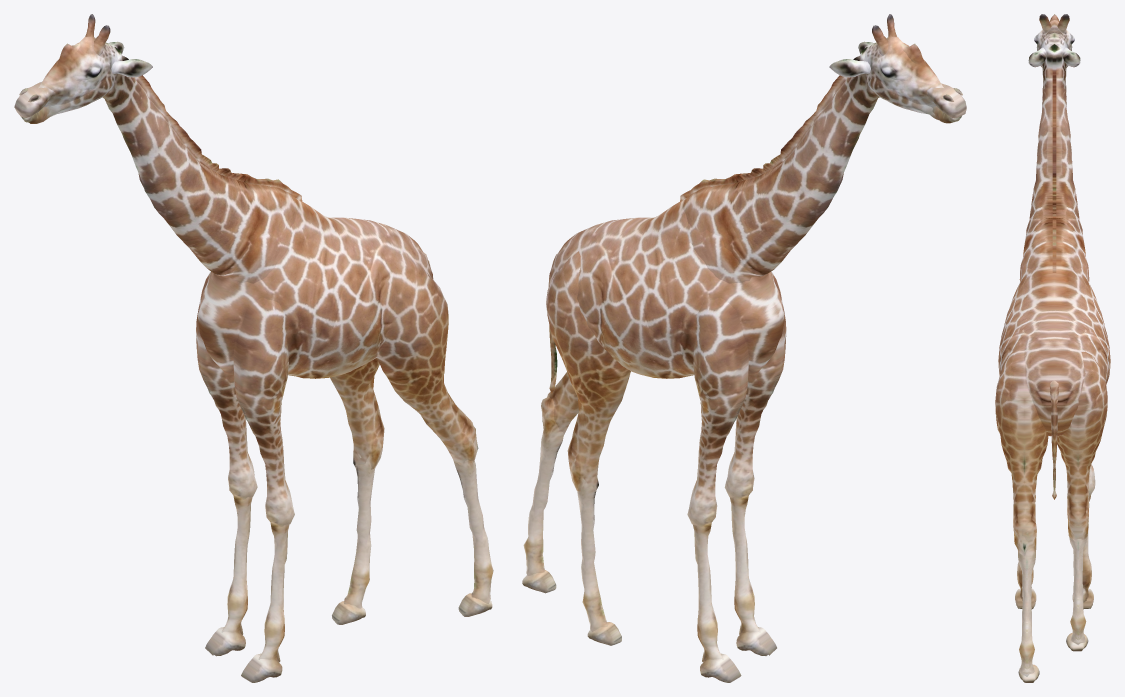
File: giraffe_berlin_zoo_smoothie_3d_upload.glb
3 renders of one model, left to right at view 1: azimuth 30°, elevation 25°; view 2: azimuth 150°, elevation 25°; view 3: azimuth 270°, elevation 25°, orthographic. The views are drawn at different scales.
Visible parts, largest first — view 1: Object_2; view 2: Object_2; view 3: Object_2.
Part boxes in pixels (x1,y1,x2,y2): Object_2: (14, 14, 493, 682); Object_2: (522, 14, 966, 682); Object_2: (995, 14, 1110, 682).
Bounding box in the file's own units: 131 × 186 × 36.27.
1 material, 1 textured.
